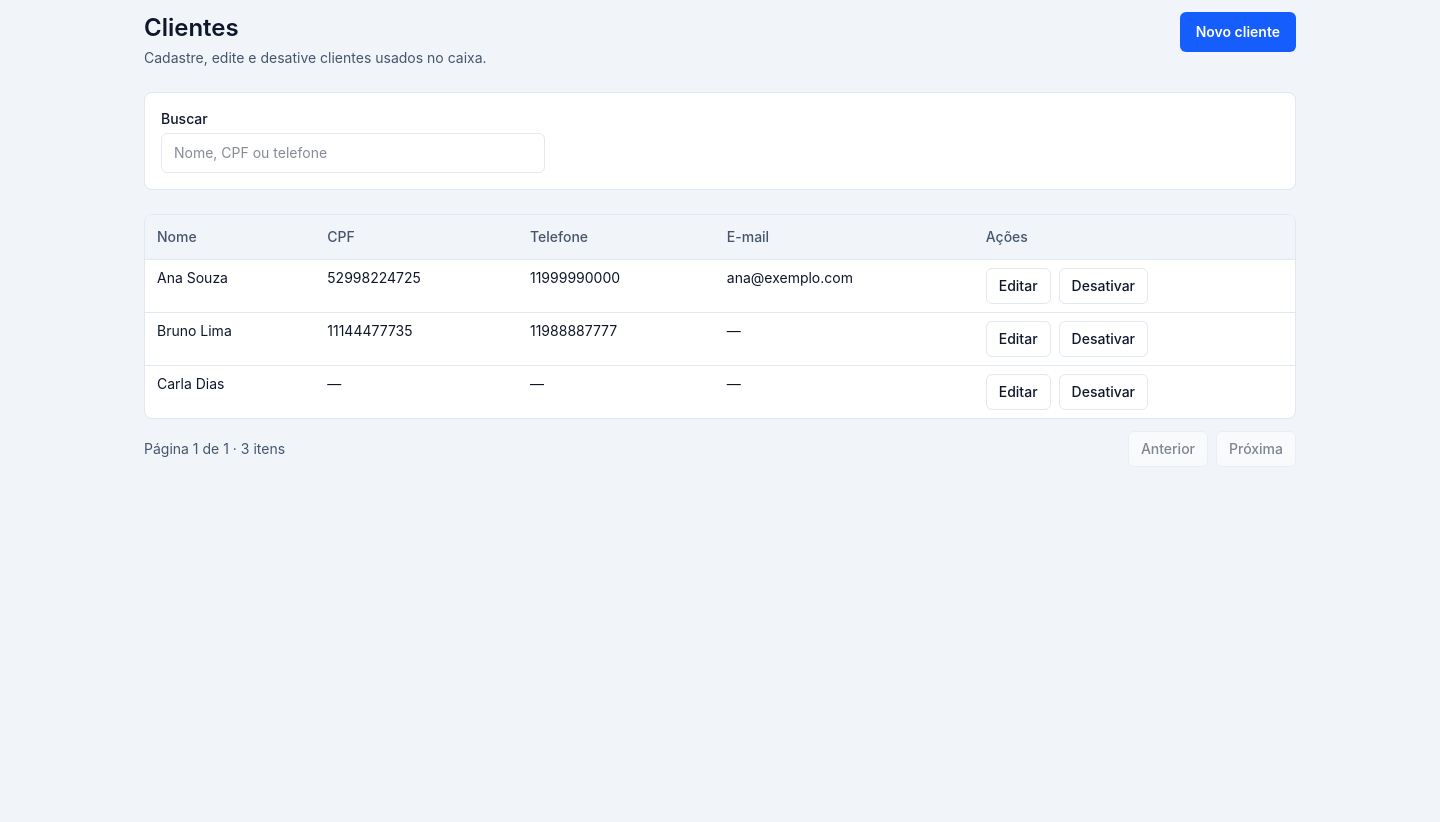
Scenario: CustomersPage — desativar › manda o POST de disable, avisa o sucesso e recarrega a lista
Expected: the cell "Ana Souza" is shown, [145, 260, 315, 312]
Click the button with aria-label "Desativar Ana Souza" at (1103, 286), box [1059, 268, 1148, 304]
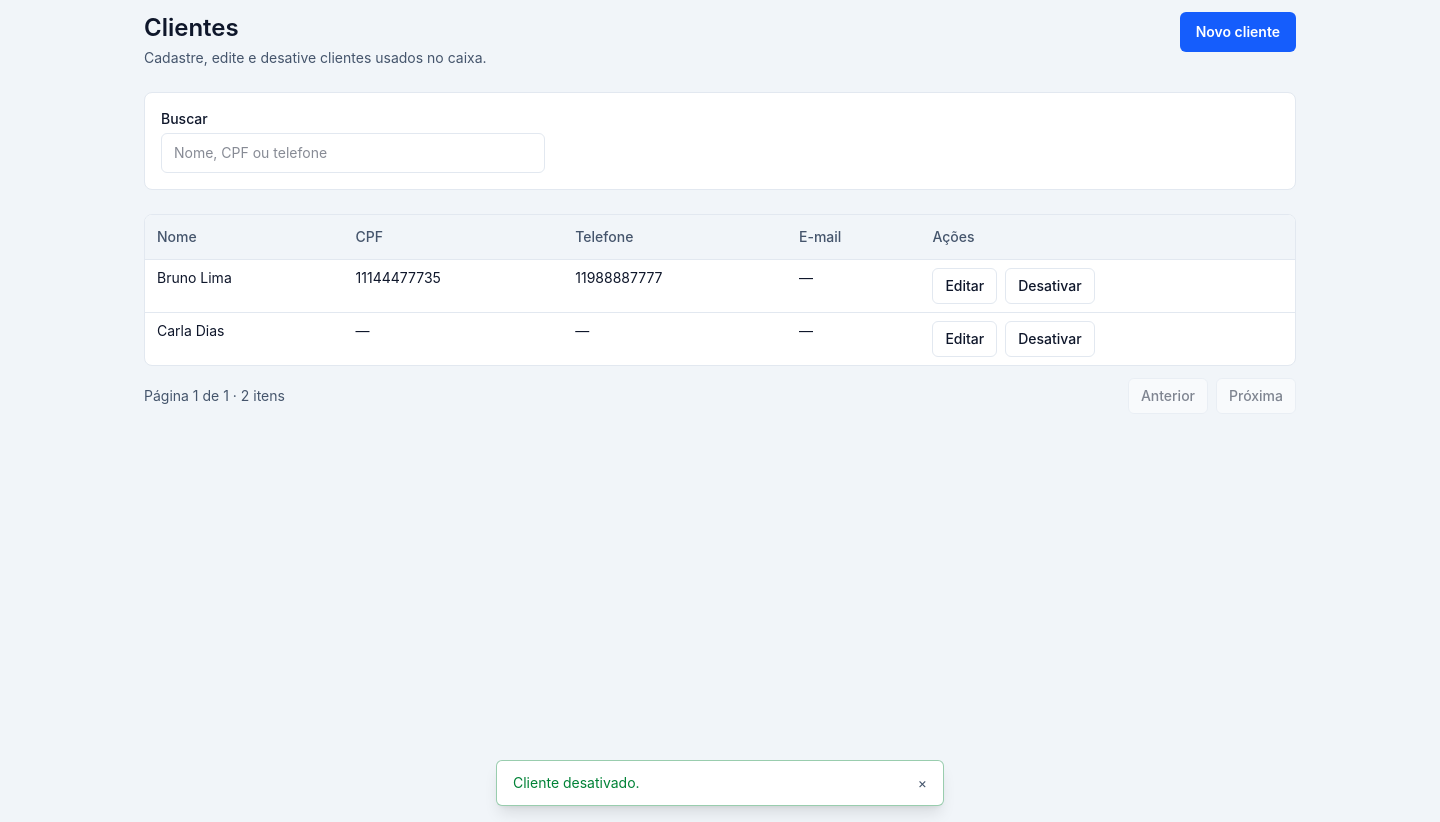
Expected: the text "Cliente desativado." is shown, [513, 774, 640, 791]
Expected: the cell "Ana Souza" is gone
